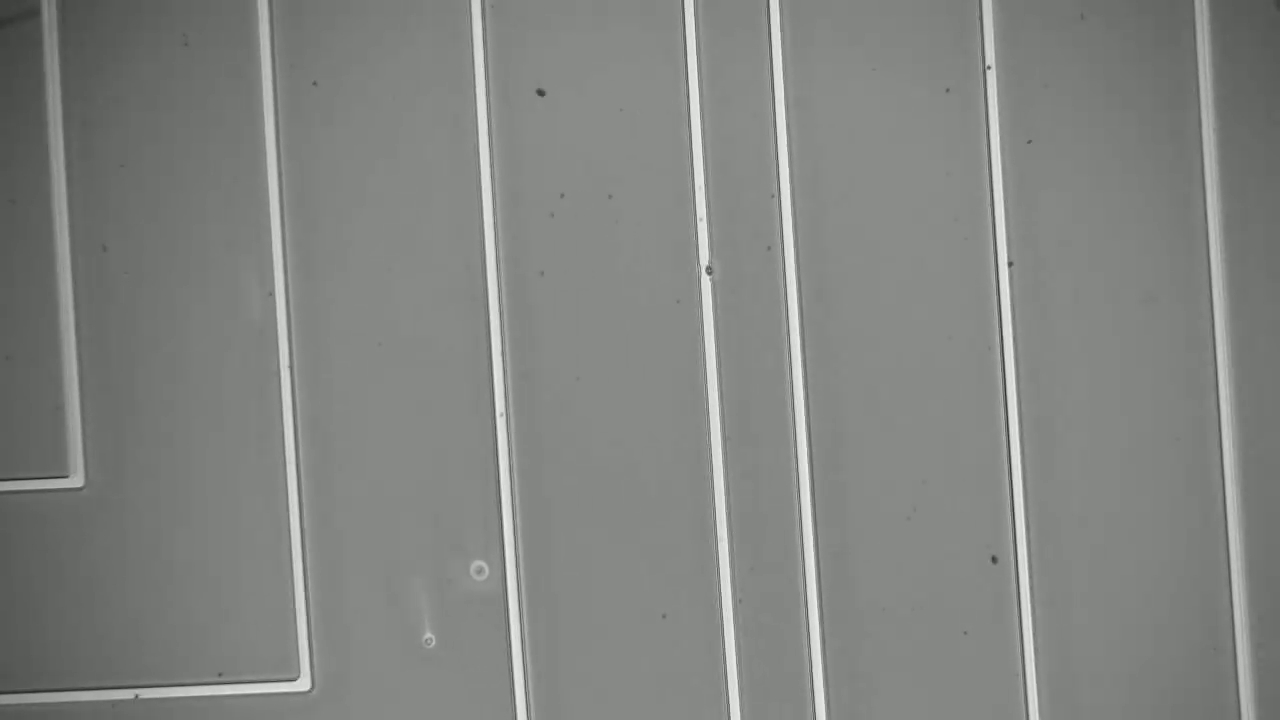stains_enbedded: (691, 254, 719, 282)
